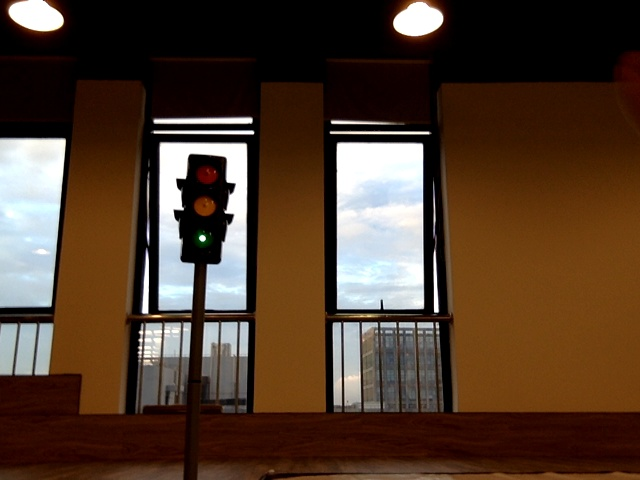green: (185, 158, 220, 255)
